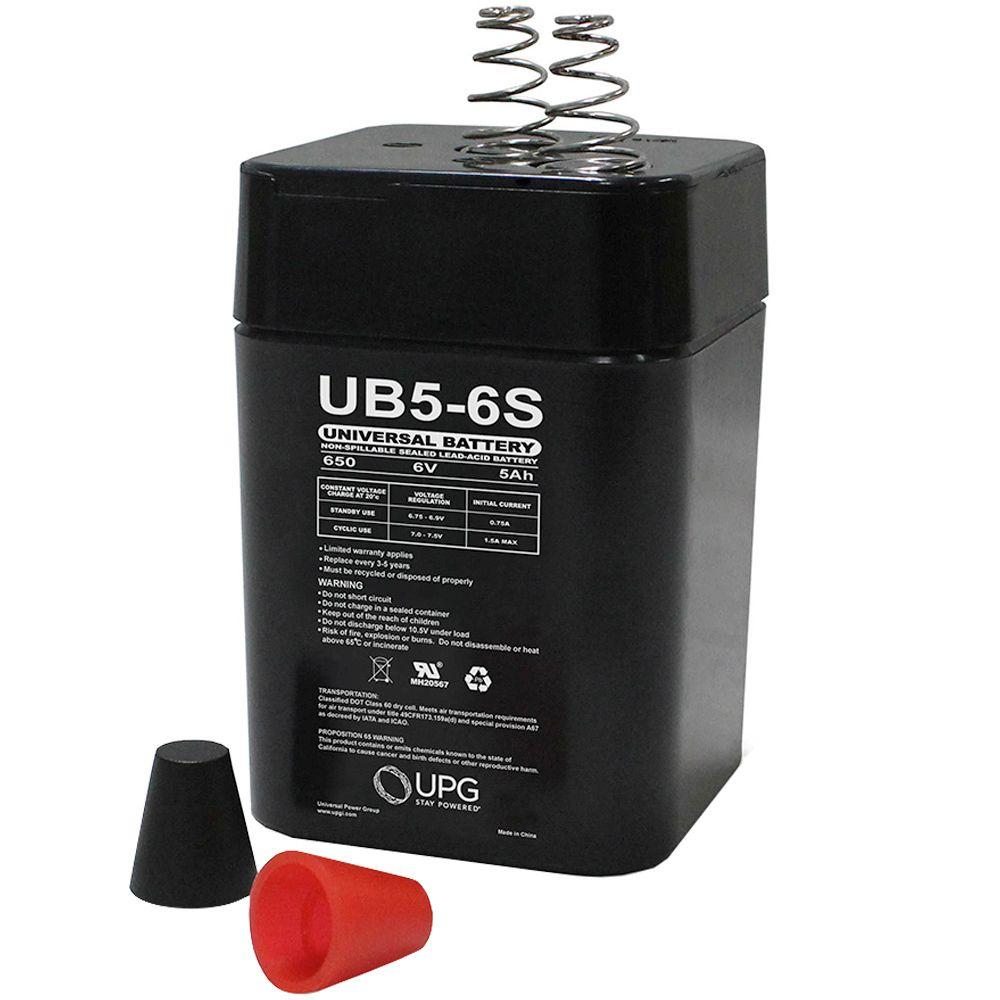6V: (216, 20, 787, 892)
